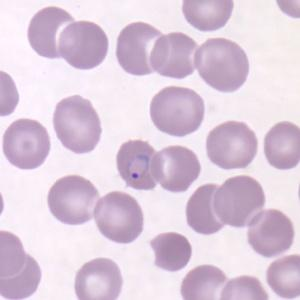Infected: (114, 138, 163, 190)
Uninfected: (192, 39, 251, 94), (212, 174, 268, 228), (148, 87, 207, 138), (26, 7, 81, 61), (50, 96, 101, 154), (55, 19, 108, 74), (0, 116, 54, 169), (48, 175, 99, 231), (205, 120, 257, 171), (148, 29, 203, 76), (184, 183, 233, 235), (93, 191, 145, 240), (116, 23, 165, 74), (148, 146, 200, 193), (75, 256, 126, 300), (246, 206, 294, 251), (148, 227, 193, 273), (262, 121, 300, 170), (181, 264, 231, 300), (180, 0, 233, 29), (267, 256, 300, 298)
